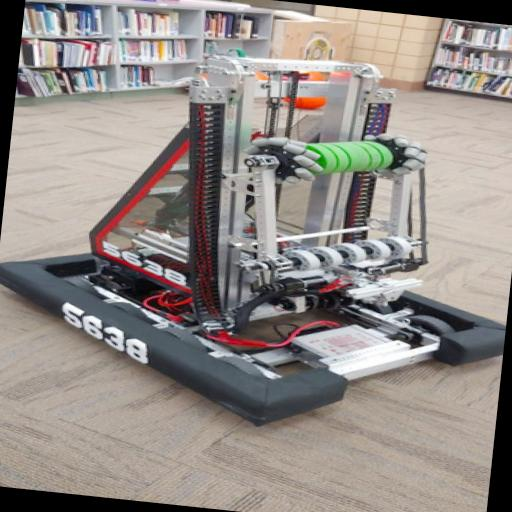robot: (0, 24, 512, 446)
